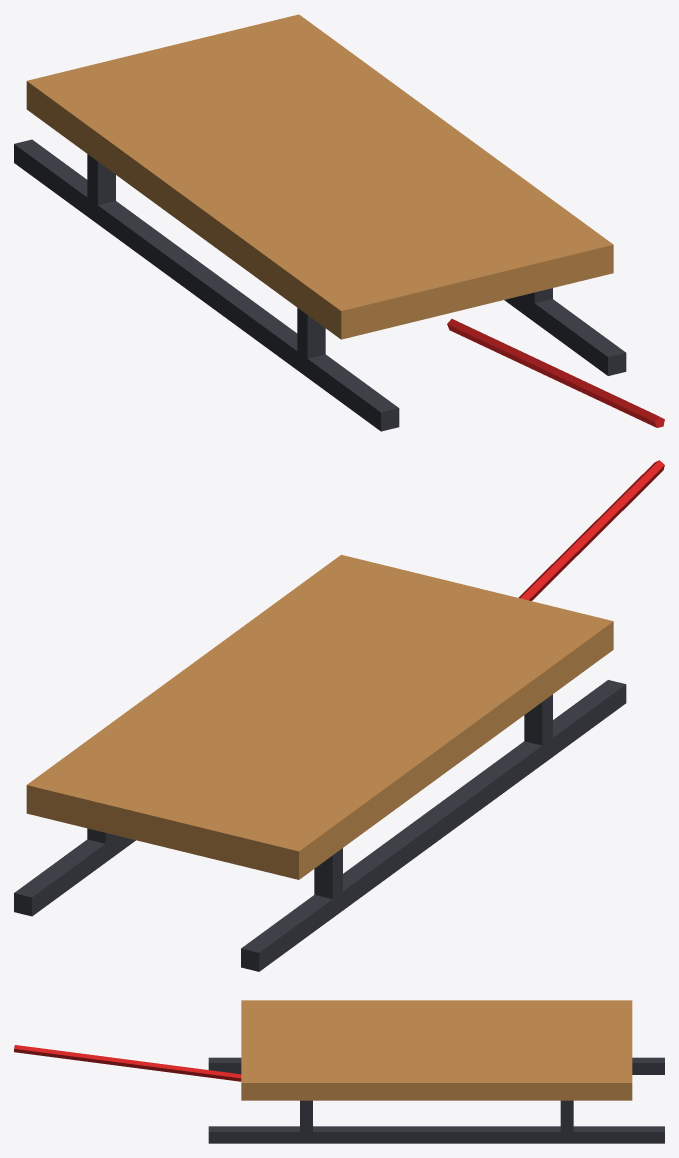
The model's file is sled.glb.
3 renders of one model, top to bottom at view 1: azimuth 30°, elevation 25°; view 2: azimuth 150°, elevation 25°; view 3: azimuth 270°, elevation 25°, orthographic. The views are drawn at different scales.
Visible parts, largest first — view 1: sled; view 2: sled; view 3: sled.
Boxes of the visible parts, left/top/right/bottom form: sled: left=14, top=14, right=664, bottom=431; sled: left=14, top=460, right=664, bottom=971; sled: left=14, top=1000, right=664, bottom=1143.
Bounding box in the file's own units: 0.6 × 0.22 × 2.
